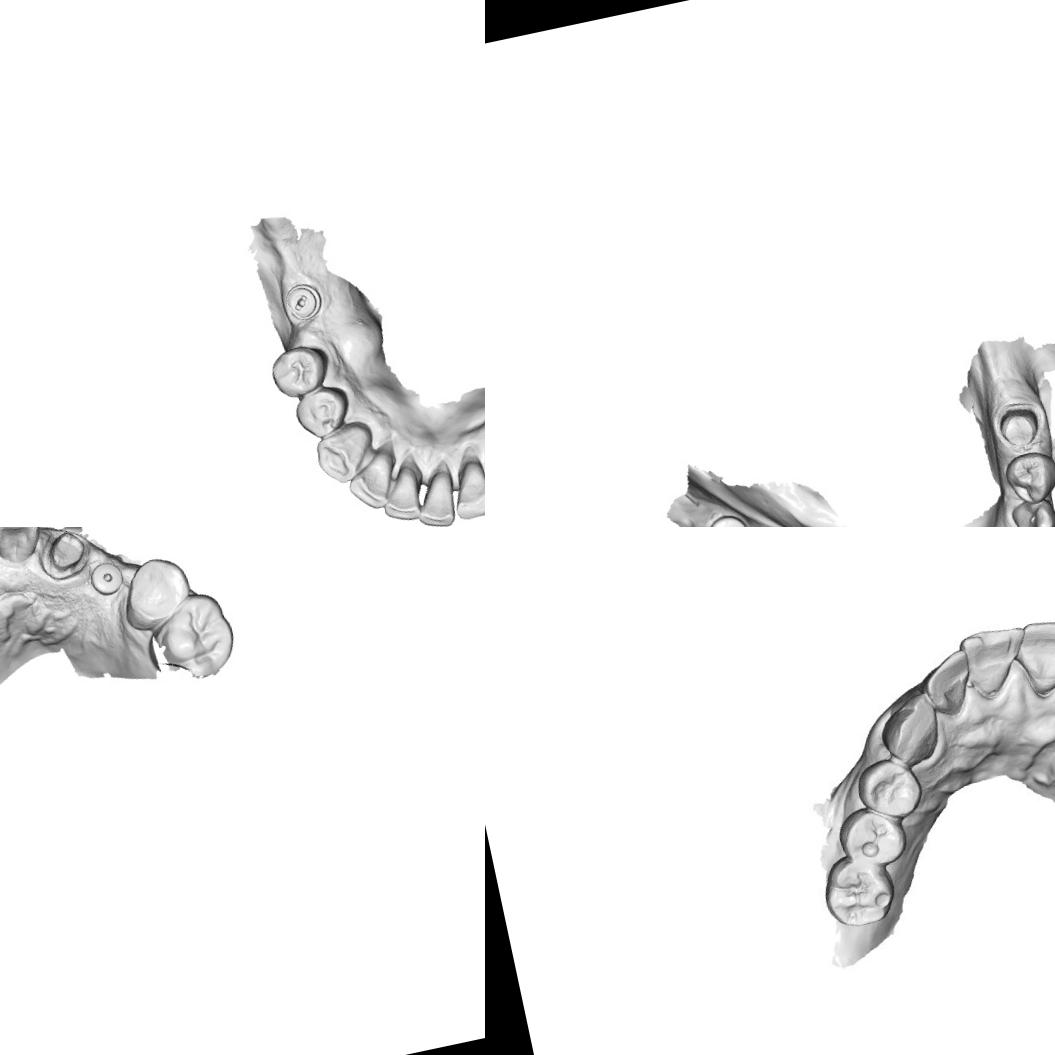canine: (308, 416, 382, 490), (875, 692, 949, 766), (1008, 494, 1055, 527)
crown: (38, 527, 99, 588), (993, 400, 1045, 452)
implant: (78, 552, 130, 606), (702, 510, 752, 527)
implant_minus: (279, 276, 327, 326)
incisor: (956, 622, 1034, 702), (916, 644, 978, 718), (341, 447, 407, 516), (1013, 606, 1055, 699), (371, 460, 427, 527), (407, 465, 465, 527), (443, 454, 485, 524), (0, 527, 49, 568)
molar: (144, 587, 242, 684), (818, 853, 898, 934)
premolar: (114, 550, 200, 638), (838, 805, 908, 876), (265, 340, 335, 404), (290, 380, 358, 443), (859, 756, 927, 819), (1001, 446, 1055, 508)
